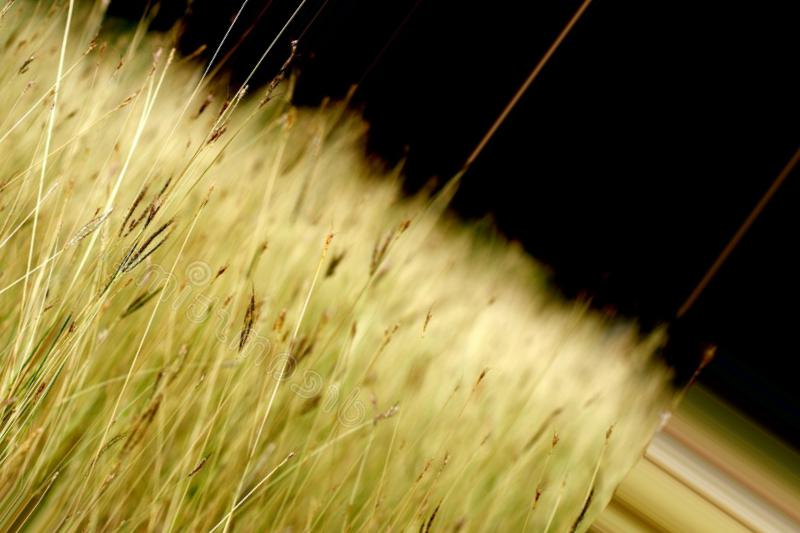patch: (62, 108, 326, 303)
